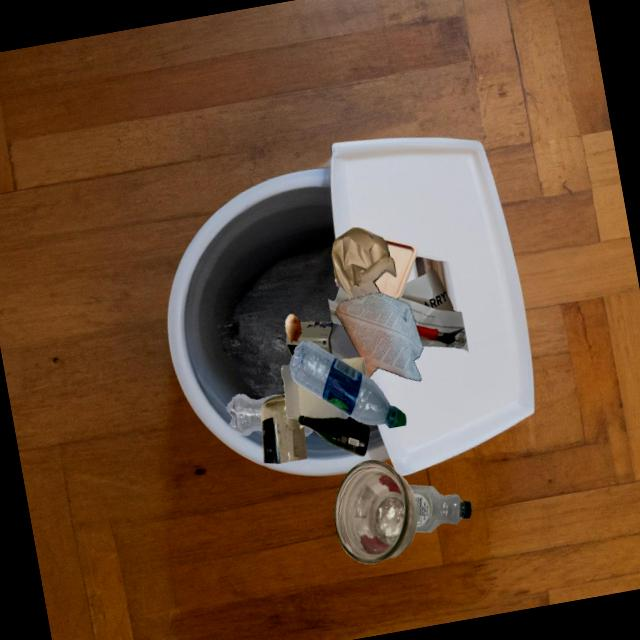biowaste: (285, 313, 301, 340)
cardboard: (281, 364, 325, 419), (286, 321, 333, 356), (325, 369, 361, 414)
combustible waste: (374, 236, 417, 300)
glass: (334, 459, 417, 563), (261, 394, 307, 463), (298, 415, 370, 456)
paper: (335, 292, 423, 381), (399, 268, 468, 352), (331, 227, 397, 299)
plastic: (290, 340, 406, 428), (409, 485, 471, 532), (226, 394, 284, 435)
